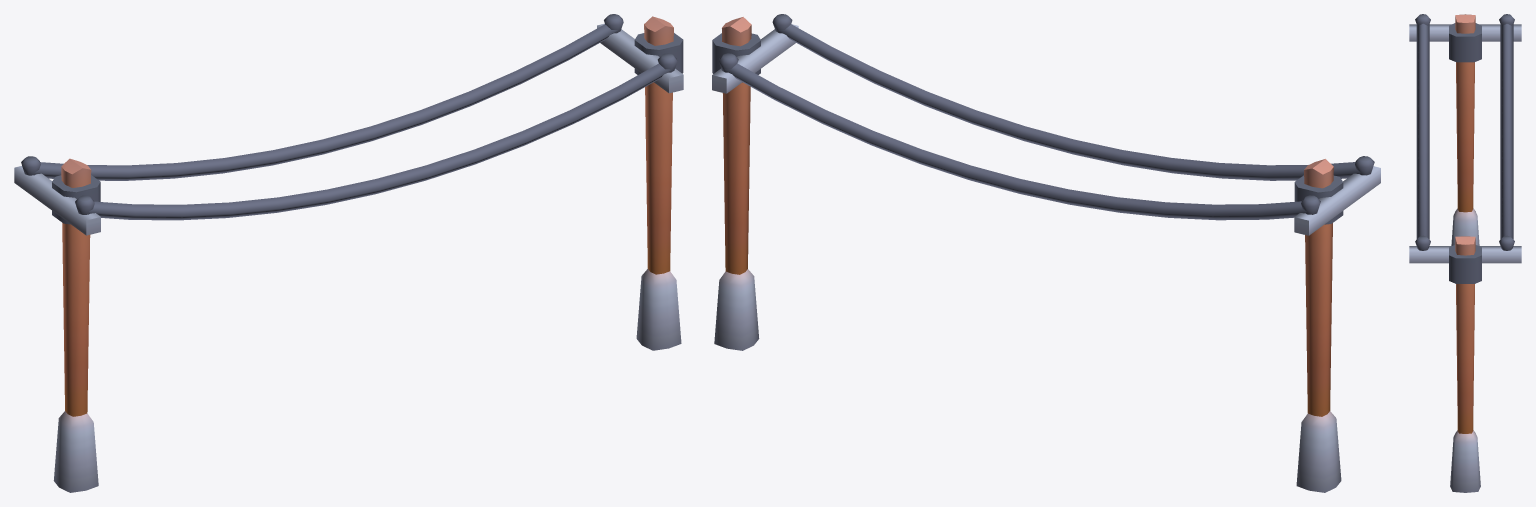
The model's file is road_electricity_pole_wide.glb.
3 views of the same model, side by side, from view 1: azimuth 30°, elevation 25°; view 2: azimuth 150°, elevation 25°; view 3: azimuth 270°, elevation 25° (orthographic). The views are drawn at different scales.
Parts seen in each view (by area): view 1: electricity-pole-wide; view 2: electricity-pole-wide; view 3: electricity-pole-wide.
Boxes of the visible parts, x1,y1,x2,y2 form: electricity-pole-wide: (14,14,683,492); electricity-pole-wide: (712,14,1380,492); electricity-pole-wide: (1409,14,1521,492).
Size of the model in its own units: 1.08 by 0.525 by 0.2142.
1 material, 1 textured.
